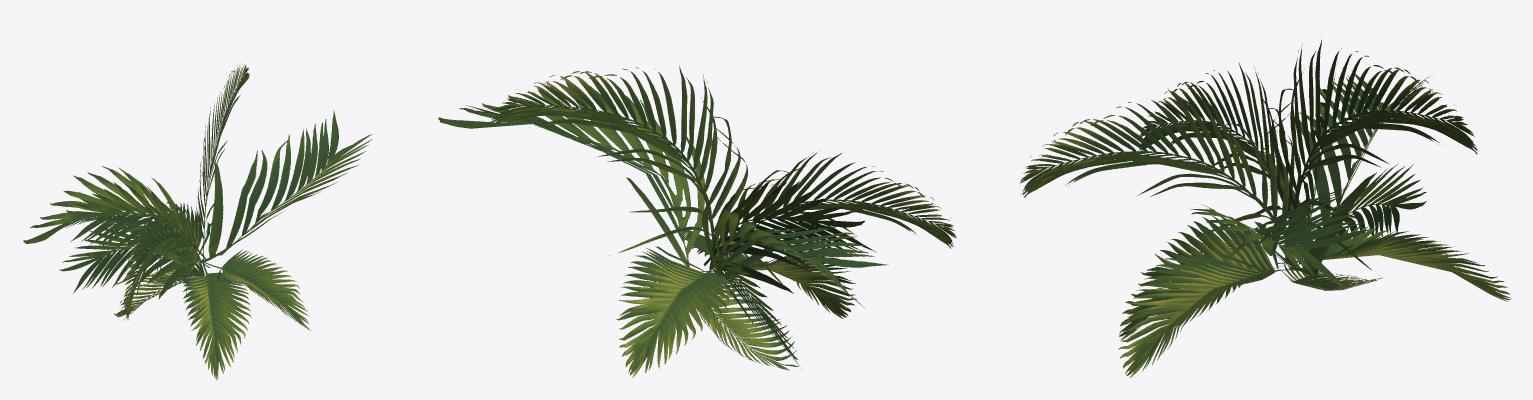
Rendered from PalmSmall.fbx.
3 renders of one model, left to right at view 1: azimuth 30°, elevation 25°; view 2: azimuth 150°, elevation 25°; view 3: azimuth 270°, elevation 25°, orthographic. The views are drawn at different scales.
Parts seen in each view (by area): view 1: PalmSmall; view 2: PalmSmall; view 3: PalmSmall.
Part boxes in pixels (x1,y1,x2,y2): PalmSmall: (23,63,371,380); PalmSmall: (438,66,956,377); PalmSmall: (1020,40,1510,377).
Size of the model in its own units: 453 by 330 by 356.
